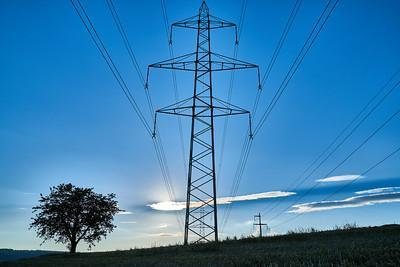power_tower: (134, 3, 264, 251)
